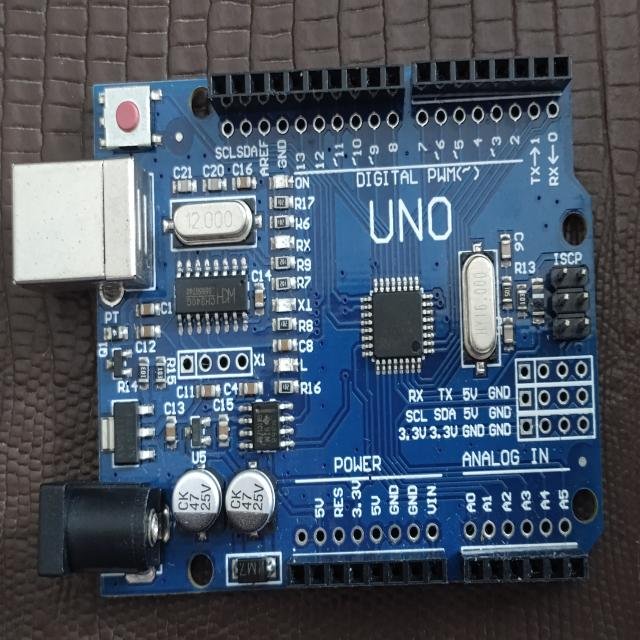arduino: (8, 45, 608, 602)
